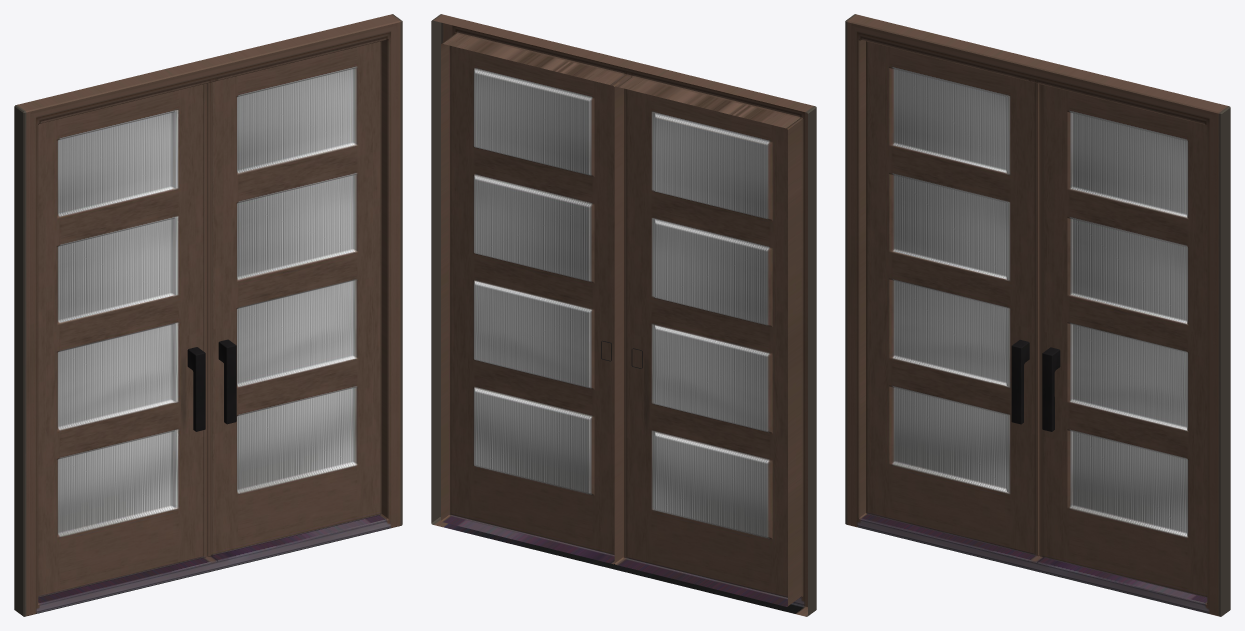
Rendered from door2.fbx.
3 views of the same model, side by side, from view 1: azimuth 30°, elevation 25°; view 2: azimuth 150°, elevation 25°; view 3: azimuth 330°, elevation 25° (orthographic).
Parts seen in each view (by area): view 1: DOOR_2_b, DOOR_2, FRAME_2; view 2: DOOR_2, DOOR_2_b, FRAME_2; view 3: DOOR_2, DOOR_2_b, FRAME_2.
Part boxes in pixels (left/top/right/bottom): DOOR_2_b: left=207, top=41, right=381, bottom=556; DOOR_2: left=38, top=83, right=206, bottom=597; FRAME_2: left=14, top=14, right=402, bottom=616; DOOR_2: left=614, top=81, right=795, bottom=606; DOOR_2_b: left=441, top=38, right=622, bottom=564; FRAME_2: left=431, top=14, right=816, bottom=616; DOOR_2: left=866, top=41, right=1039, bottom=556; DOOR_2_b: left=1039, top=84, right=1207, bottom=597; FRAME_2: left=845, top=14, right=1230, bottom=616.
Bounding box in the file's own units: 0.0153 × 0.0195 × 0.00119.
